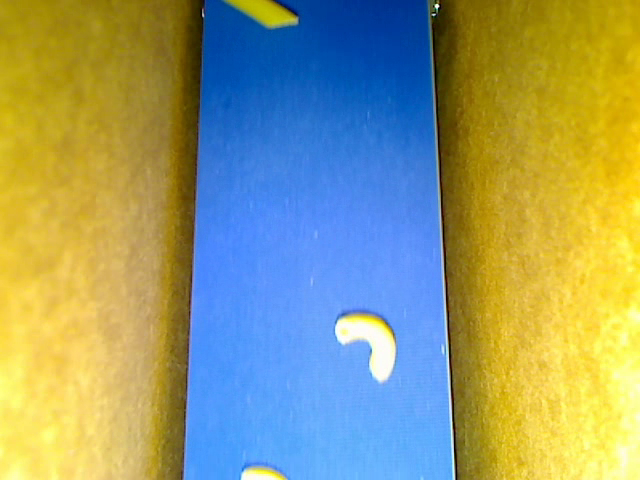elbow: (334, 313, 395, 382)
penne: (223, 1, 297, 29)
